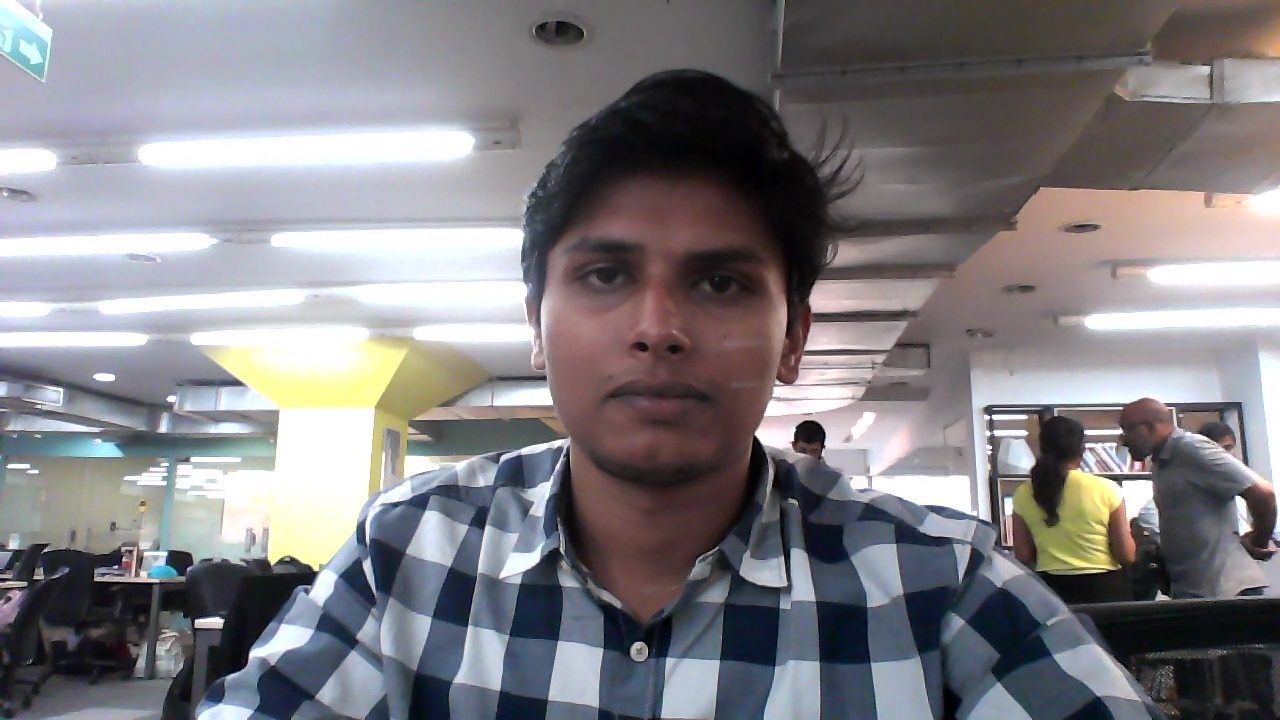open: (521, 74, 820, 505)
